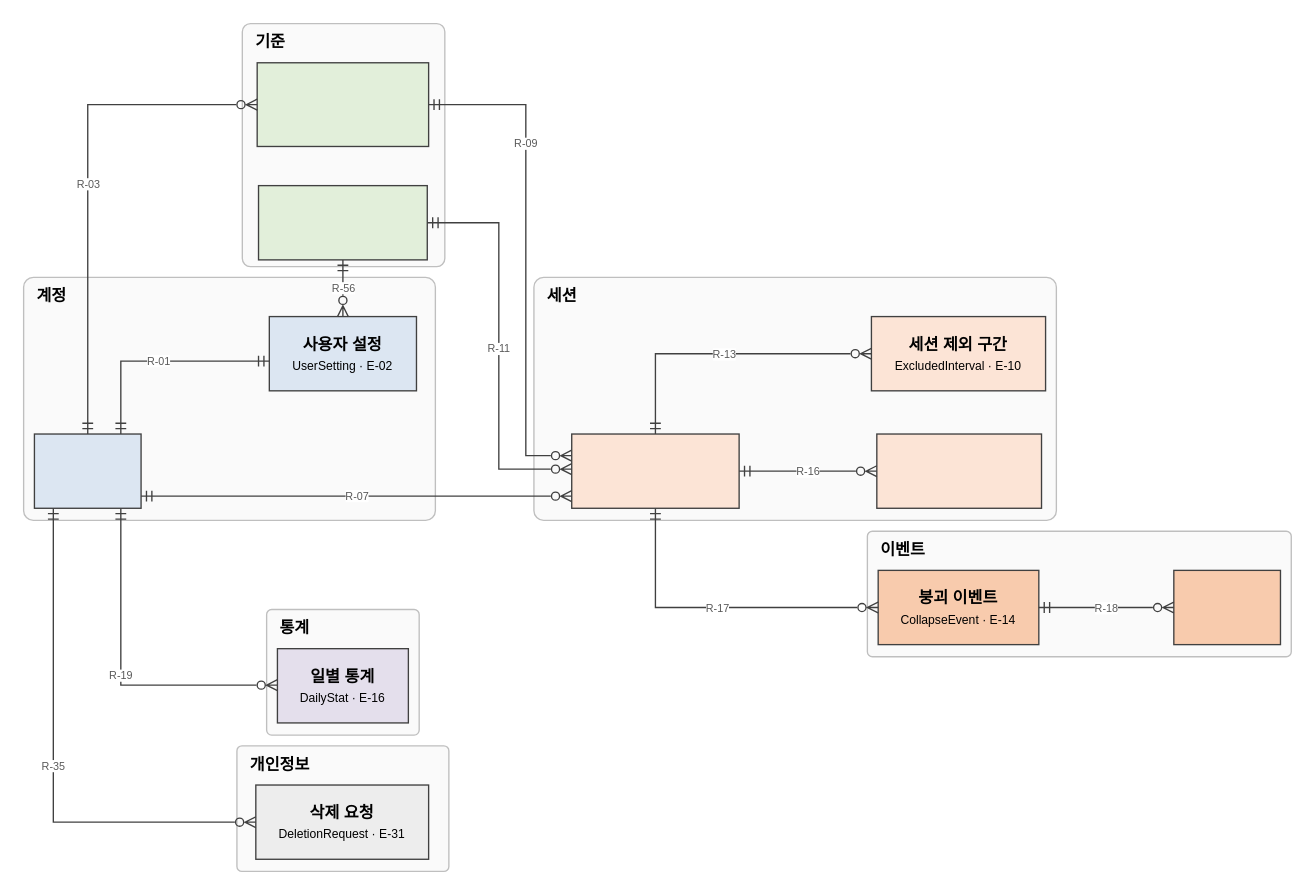
Some shapes in this 1315 by 895 pixel diagram are drawn without their labels. Each missing label, with the centre of its shape:
교정 알림 Alert · E-15: (x=1226, y=607)
기준 자세 BaselinePosture · E-04 관절 좌표 18개: (x=342, y=103)
사용자 User · E-01: (x=87, y=470)
측정 세션 MonitorSession · E-09: (x=654, y=470)
특징값 적재 기록 FeatureArchive · E-13: (x=958, y=470)
판정 정책 ThresholdPolicy · E-08: (x=342, y=222)
